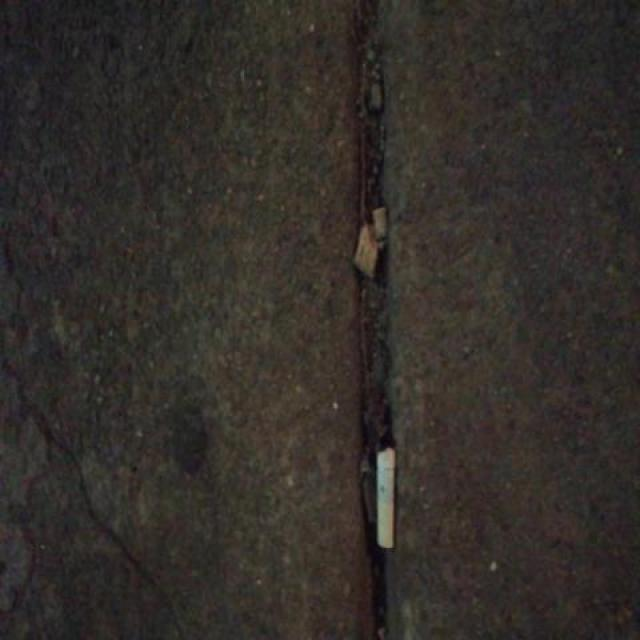non-organic waste: (372, 443, 396, 553)
